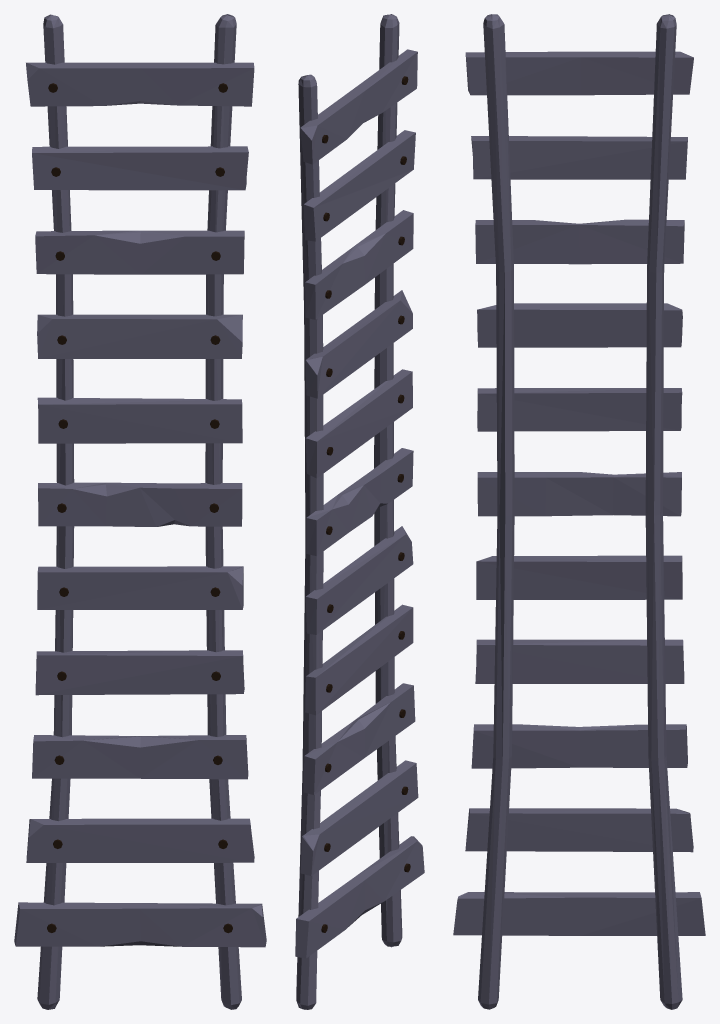
The model's file is SFFA_Stair.fbx.
3 views of the same model, side by side, from view 1: azimuth 90°, elevation 25°; view 2: azimuth 150°, elevation 25°; view 3: azimuth 270°, elevation 25° (orthographic). The views are drawn at different scales.
Visible parts, largest first — view 1: SFFA_Stair; view 2: SFFA_Stair; view 3: SFFA_Stair.
Part boxes in pixels (bbox=[...]): SFFA_Stair: bbox=[14, 14, 266, 1009]; SFFA_Stair: bbox=[295, 14, 424, 1009]; SFFA_Stair: bbox=[453, 14, 705, 1009].
Bounding box in the file's own units: 11.71 × 375 × 86.32.
